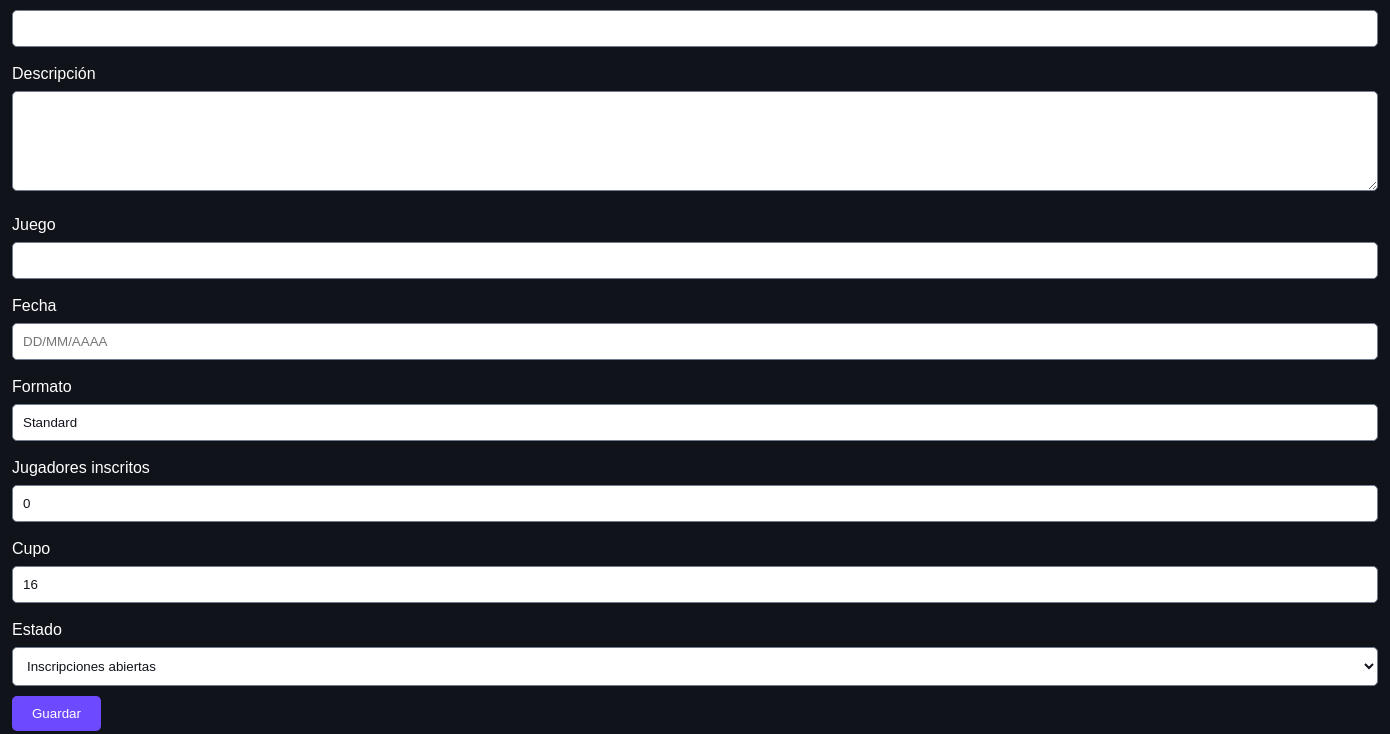
Scenario: TorneoForm › muestra un error si los inscritos superan el cupo
Type "Torneo Vitest" into the field labelled "Nombre" at (695,28), box [12, 10, 1378, 47]
Type "Descripción simple" into the text box labelled "Descripción" at (695,141), box [12, 91, 1378, 191]
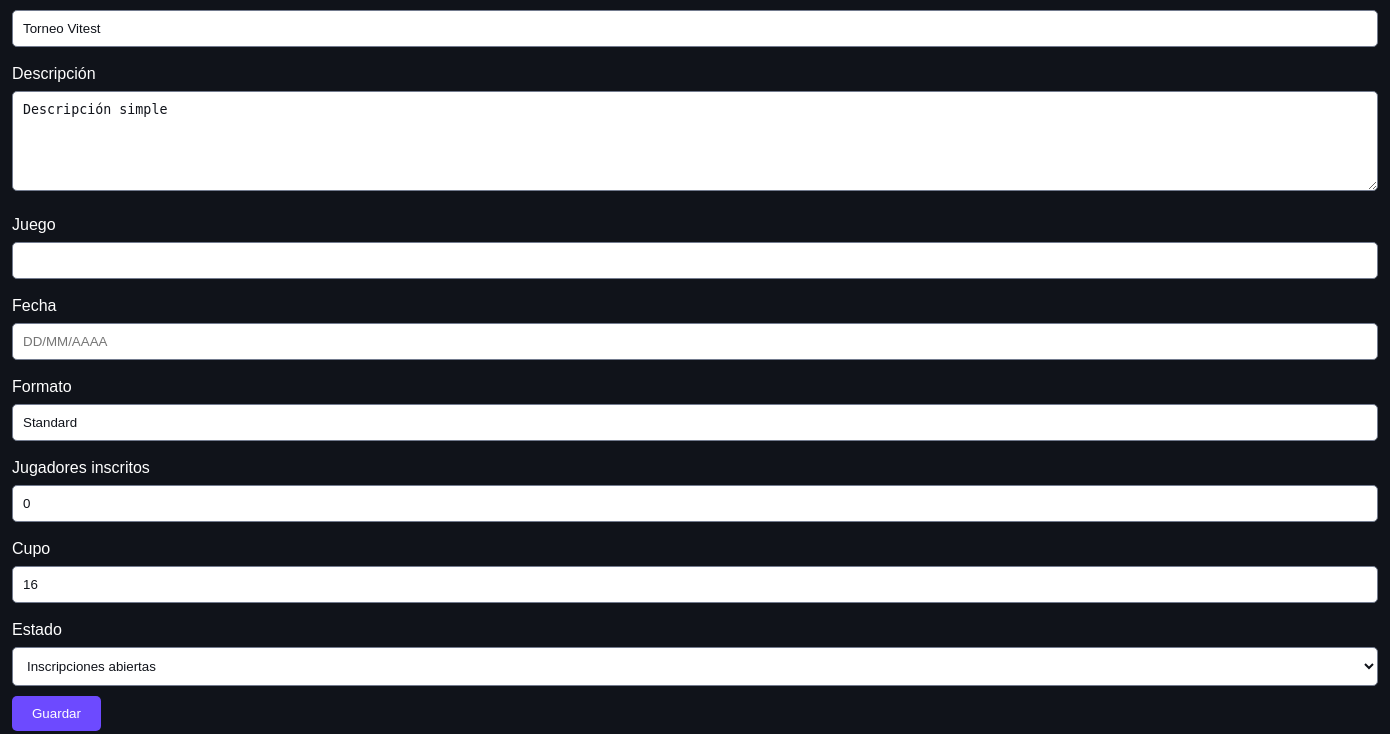
Type "Gundam" into the field labelled "Juego" at (695,260), box [12, 242, 1378, 279]
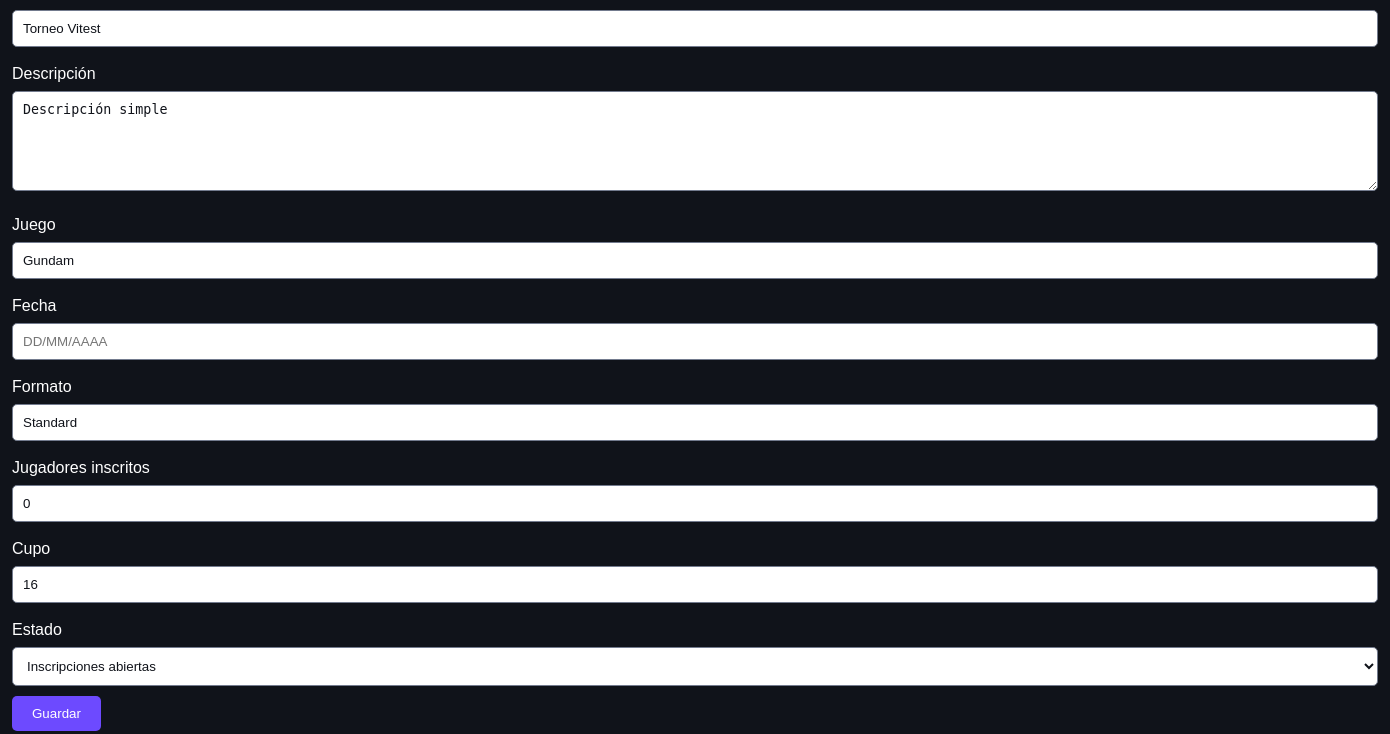
Type "01/12/2026" into the field labelled "Fecha" at (695,342), box [12, 323, 1378, 360]
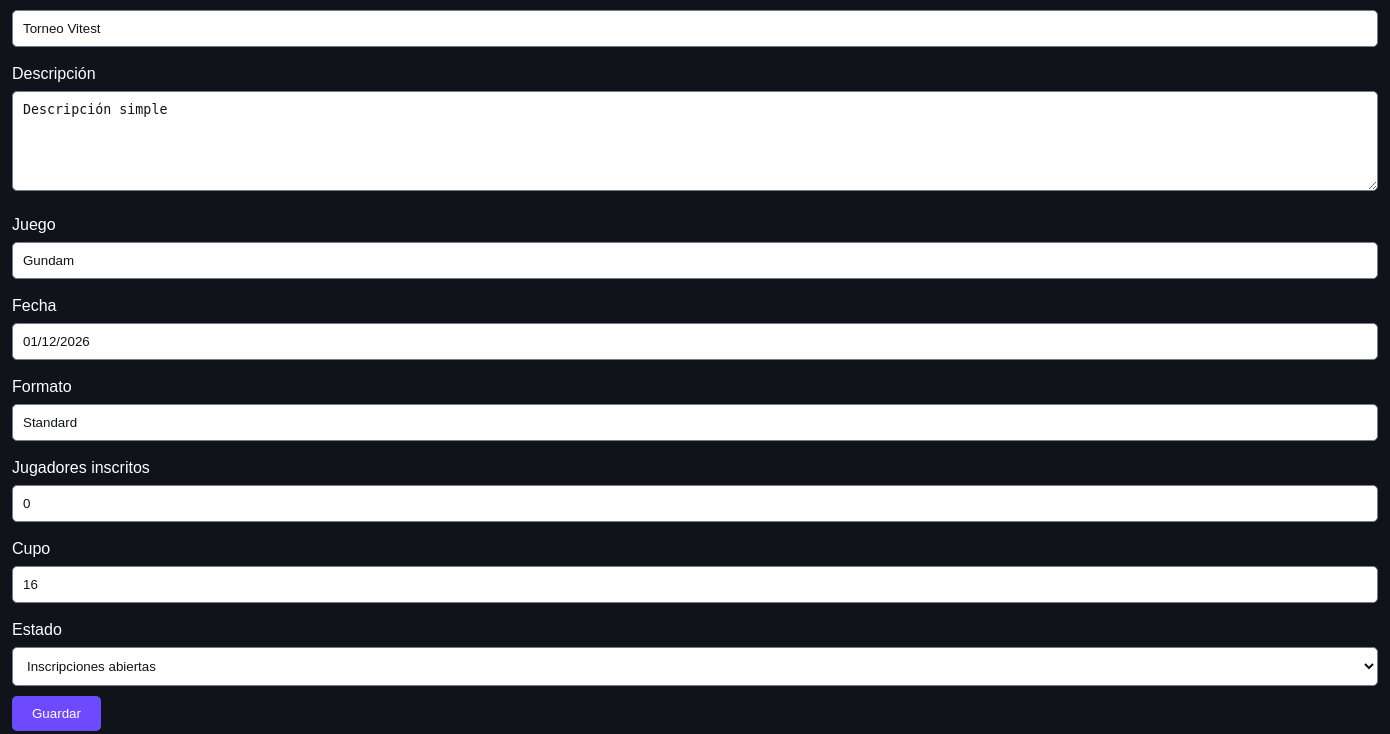
Replace the text in the number field labelled "Jugadores inscritos" with "20" at (695,504), box [12, 485, 1378, 522]
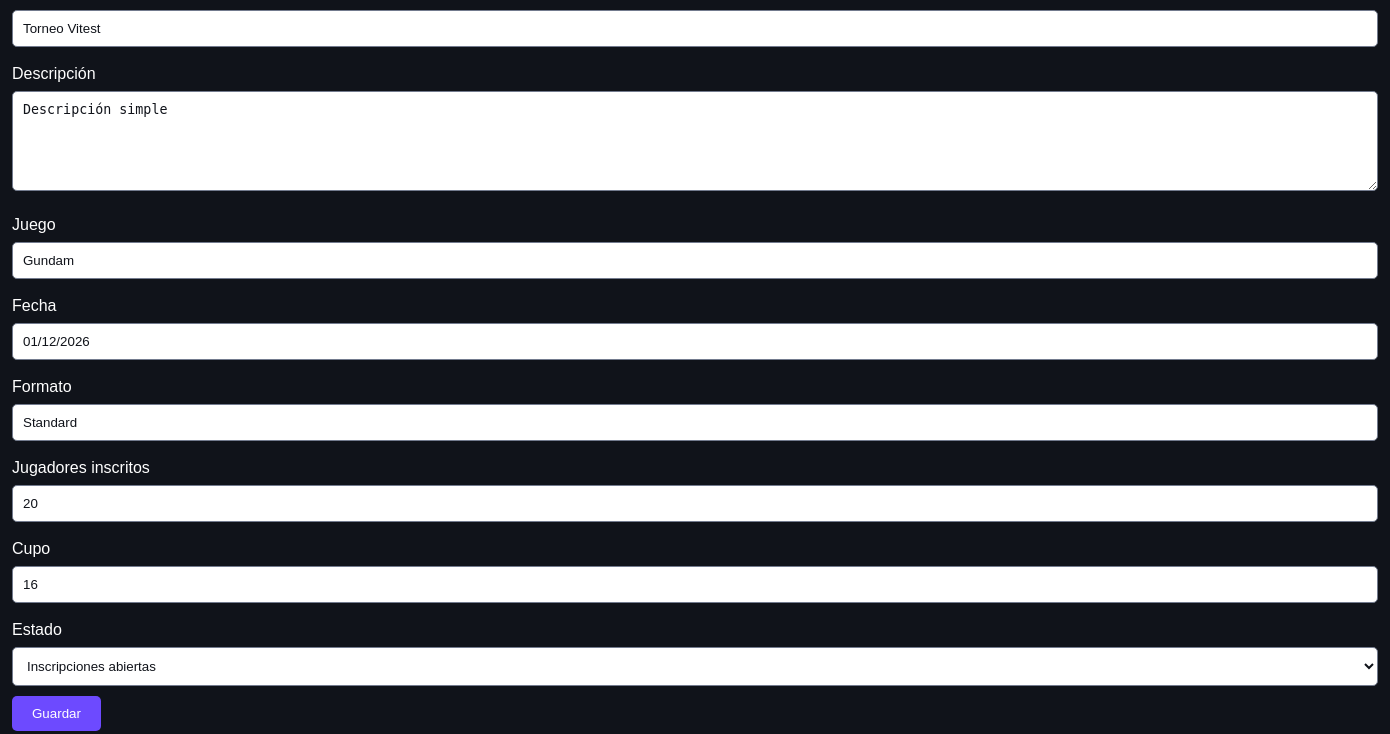
Replace the text in the number field labelled "Cupo" with "10" at (695,584), box [12, 566, 1378, 603]
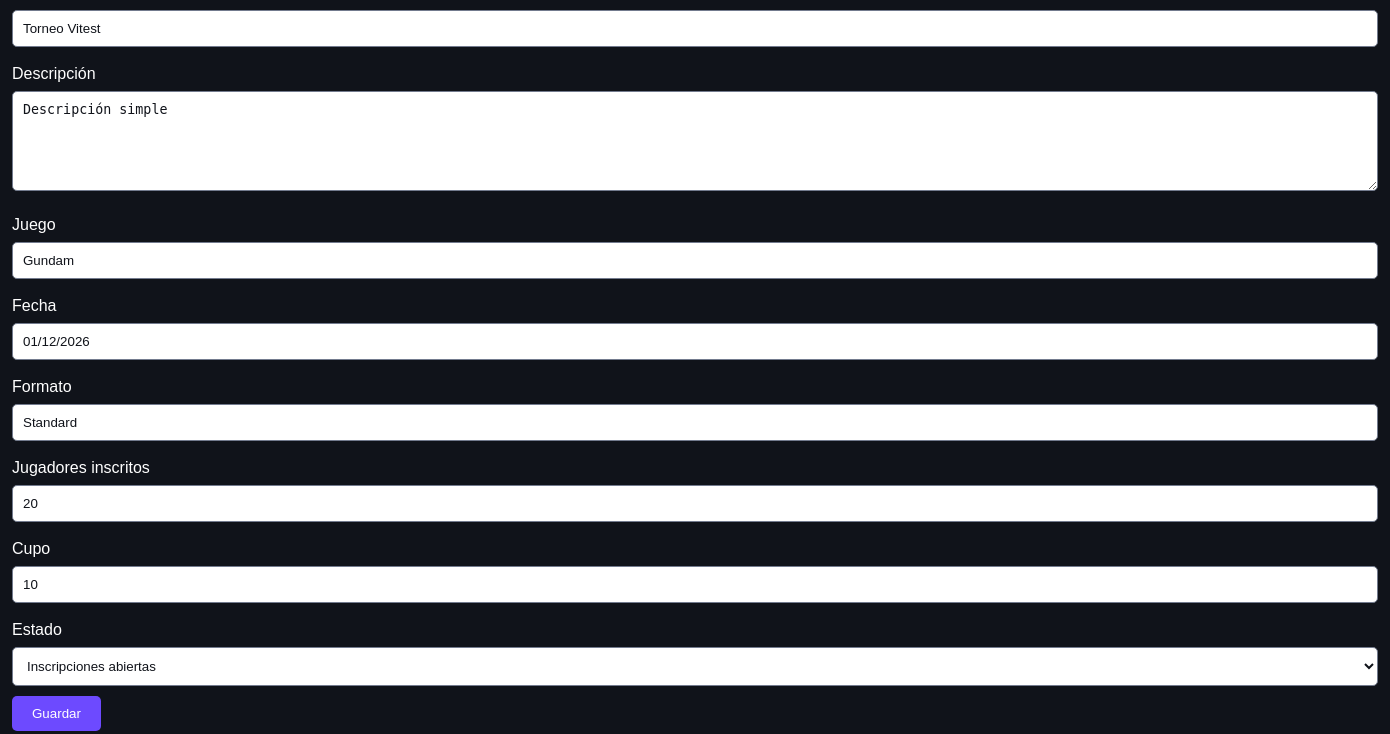
Click the button "Guardar" at (56,714), box [12, 696, 101, 731]
(page scrolled)
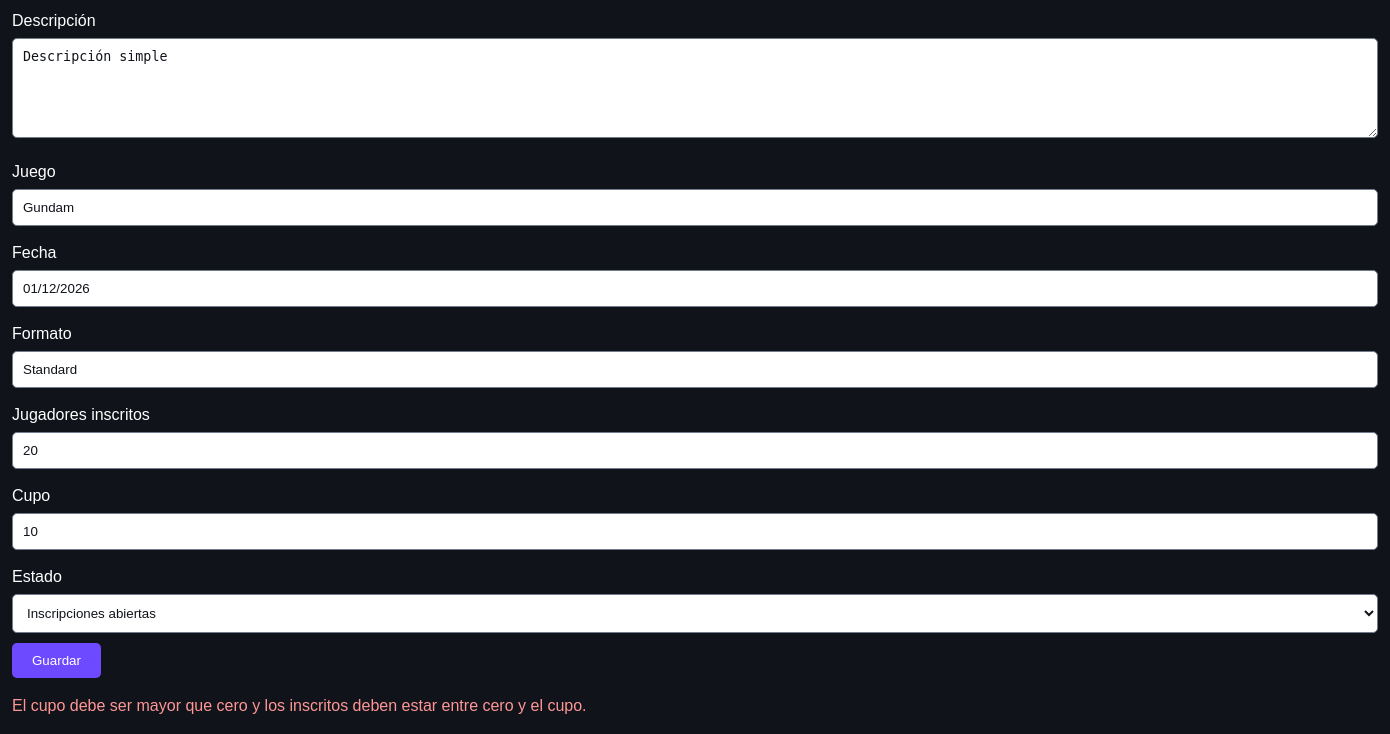
expect the message shows "El cupo debe ser mayor que cero": met, box [12, 697, 586, 714]
